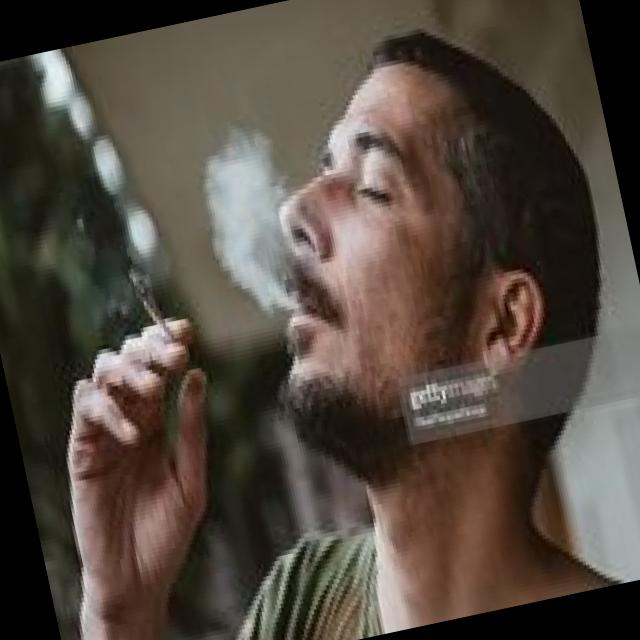smoke: (122, 262, 182, 358)
